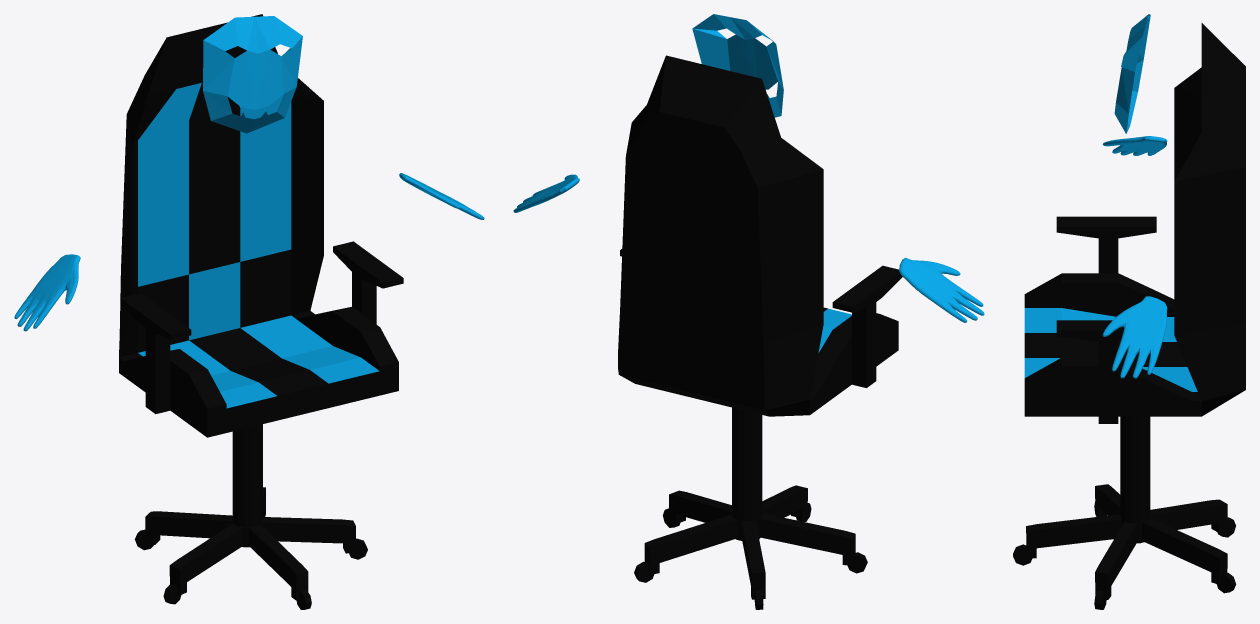
The model's file is MyChair.fbx.
3 views of the same model, side by side, from view 1: azimuth 30°, elevation 25°; view 2: azimuth 150°, elevation 25°; view 3: azimuth 270°, elevation 25° (orthographic).
Visible parts, largest first — view 1: Cube, Cube.001, Face, Hand 1, Hand 2; view 2: Cube, Cube.001, Face, Hand 1, Hand 2; view 3: Cube, Cube.001, Hand 2, Face, Hand 1.
Boxes of the visible parts, x1,y1,x2,y2 form: Cube: (119, 14, 403, 547); Cube.001: (134, 487, 367, 609); Face: (203, 16, 302, 133); Hand 1: (14, 254, 80, 331); Hand 2: (399, 173, 484, 219); Cube: (618, 55, 902, 540); Cube.001: (634, 485, 867, 609); Face: (692, 14, 783, 117); Hand 1: (899, 257, 984, 322); Hand 2: (513, 174, 579, 212); Cube: (1024, 23, 1245, 543); Cube.001: (1013, 484, 1236, 609); Hand 2: (1102, 296, 1167, 378); Face: (1114, 14, 1150, 133); Hand 1: (1103, 136, 1167, 155).
Size of the model in its own units: 156 by 177 by 68.43.
